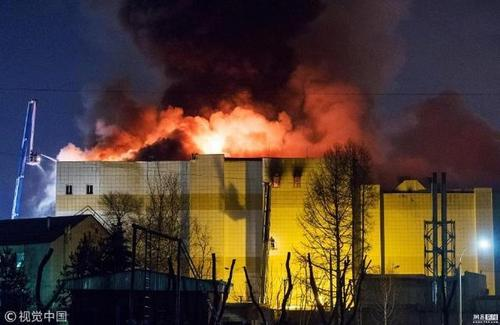fire: (83, 104, 361, 154)
smoke: (136, 14, 400, 94)
